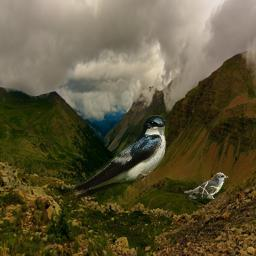Cuckoo: (184, 172, 229, 199)
Swallow: (71, 115, 168, 200)
